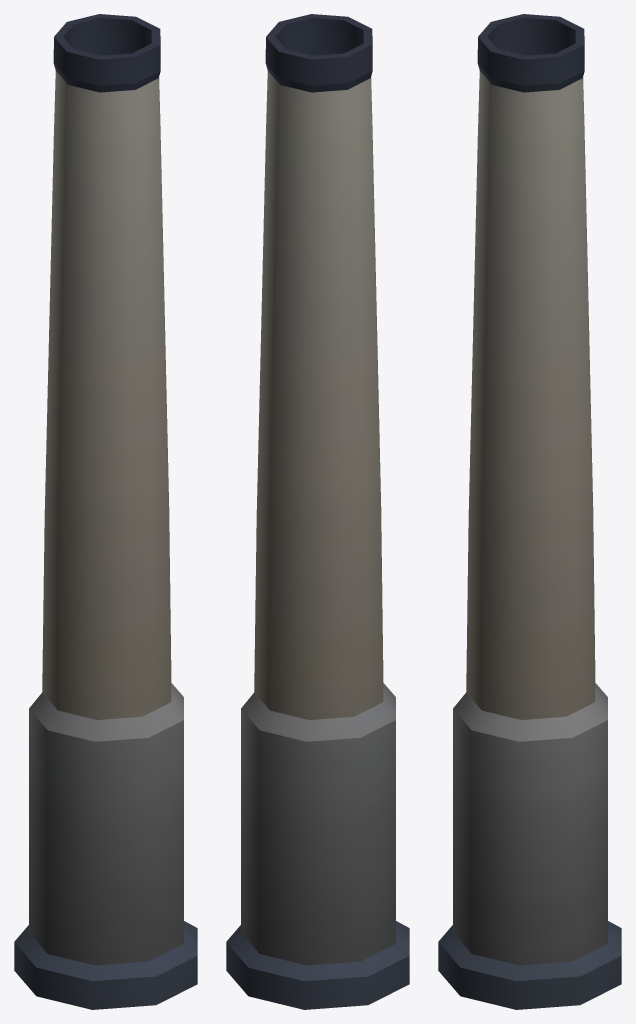
The model's file is ChimneyPowerPlant_3_C.fbx.
3 views of the same model, side by side, from view 1: azimuth 30°, elevation 25°; view 2: azimuth 150°, elevation 25°; view 3: azimuth 270°, elevation 25° (orthographic).
Visible parts, largest first — view 1: ChimneyPowerPlant_3_C; view 2: ChimneyPowerPlant_3_C; view 3: ChimneyPowerPlant_3_C.
Boxes of the visible parts, <box> form: ChimneyPowerPlant_3_C: <box>14,14,197,1009</box>; ChimneyPowerPlant_3_C: <box>226,14,409,1009</box>; ChimneyPowerPlant_3_C: <box>438,14,621,1009</box>.
Size of the model in its own units: 534 by 2952 by 526.
